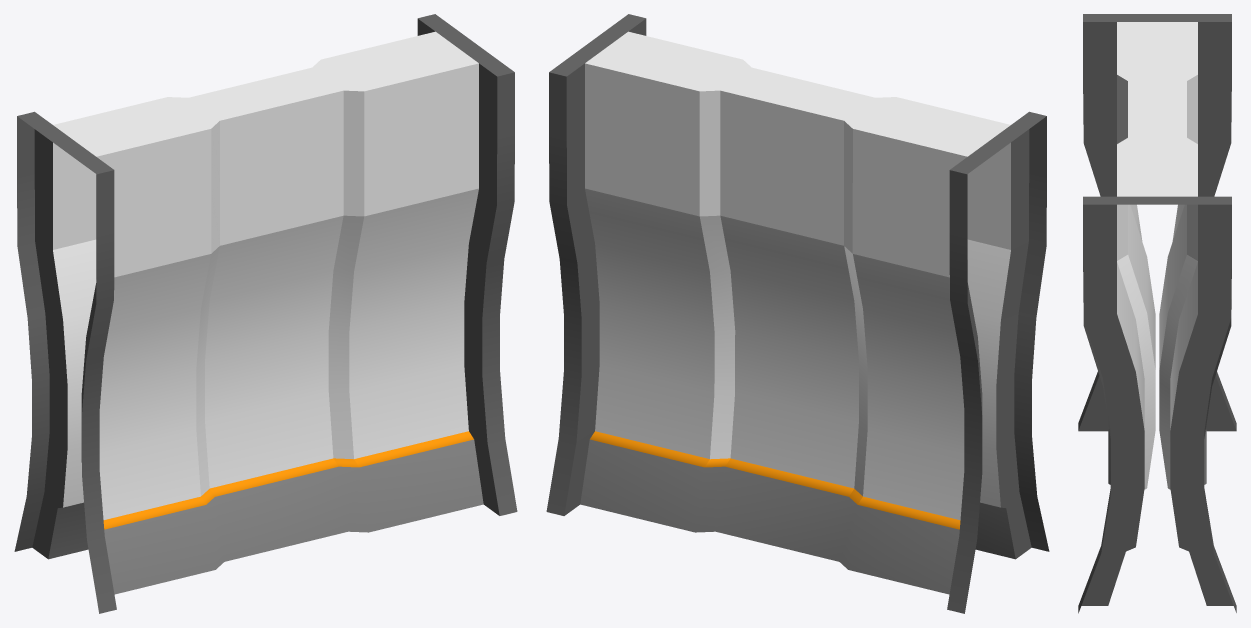
The model's file is SM_ExteriorWall_02_Elevator.fbx.
The picture shows the model from 3 angles, left to right: view 1: azimuth 30°, elevation 25°; view 2: azimuth 150°, elevation 25°; view 3: azimuth 270°, elevation 25°; orthographic projection. The views are drawn at different scales.
Visible parts, largest first — view 1: SM_ExteriorWall_02_Elevator; view 2: SM_ExteriorWall_02_Elevator; view 3: SM_ExteriorWall_02_Elevator.
Boxes of the visible parts, x1,y1,x2,y2 form: SM_ExteriorWall_02_Elevator: (14, 14, 517, 613); SM_ExteriorWall_02_Elevator: (546, 14, 1049, 613); SM_ExteriorWall_02_Elevator: (1078, 14, 1236, 613).
Size of the model in its own units: 200 by 200 by 70.18.
1 material, 1 textured.
